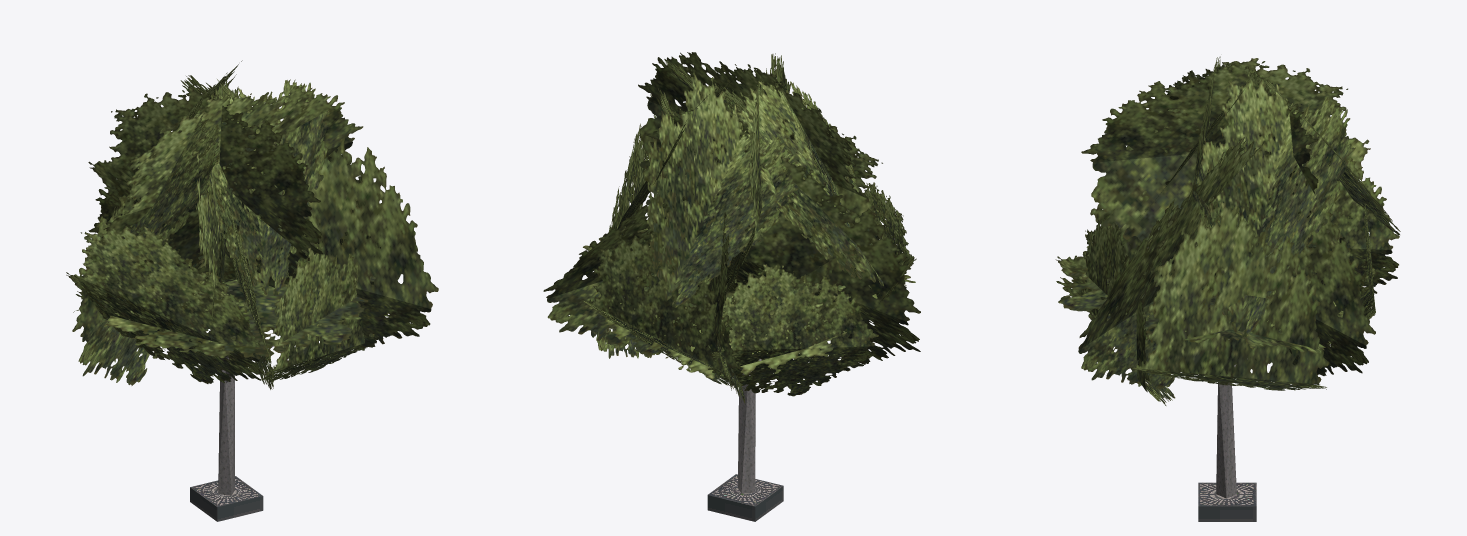
File: aw_streettree3.obj
3 views of the same model, side by side, from view 1: azimuth 30°, elevation 25°; view 2: azimuth 150°, elevation 25°; view 3: azimuth 270°, elevation 25° (orthographic). The views are drawn at different scales.
Visible parts, largest first — view 1: aw_streettree3; view 2: aw_streettree3; view 3: aw_streettree3.
Boxes of the visible parts, box(x1,y1,x2,y2) form: aw_streettree3: box(66, 60, 438, 521); aw_streettree3: box(543, 52, 920, 521); aw_streettree3: box(1055, 56, 1400, 521).
Bounding box in the file's own units: 10.74 × 12.15 × 10.13.
